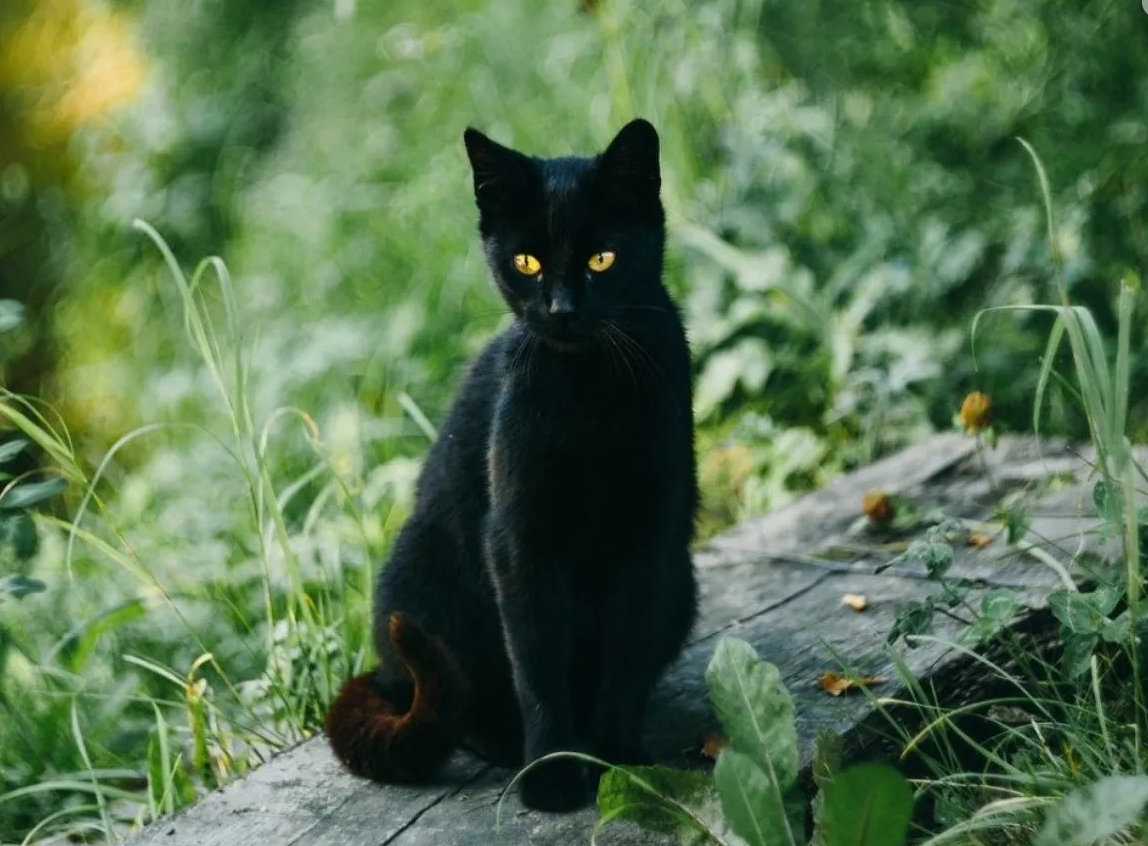gato: (310, 103, 757, 817)
